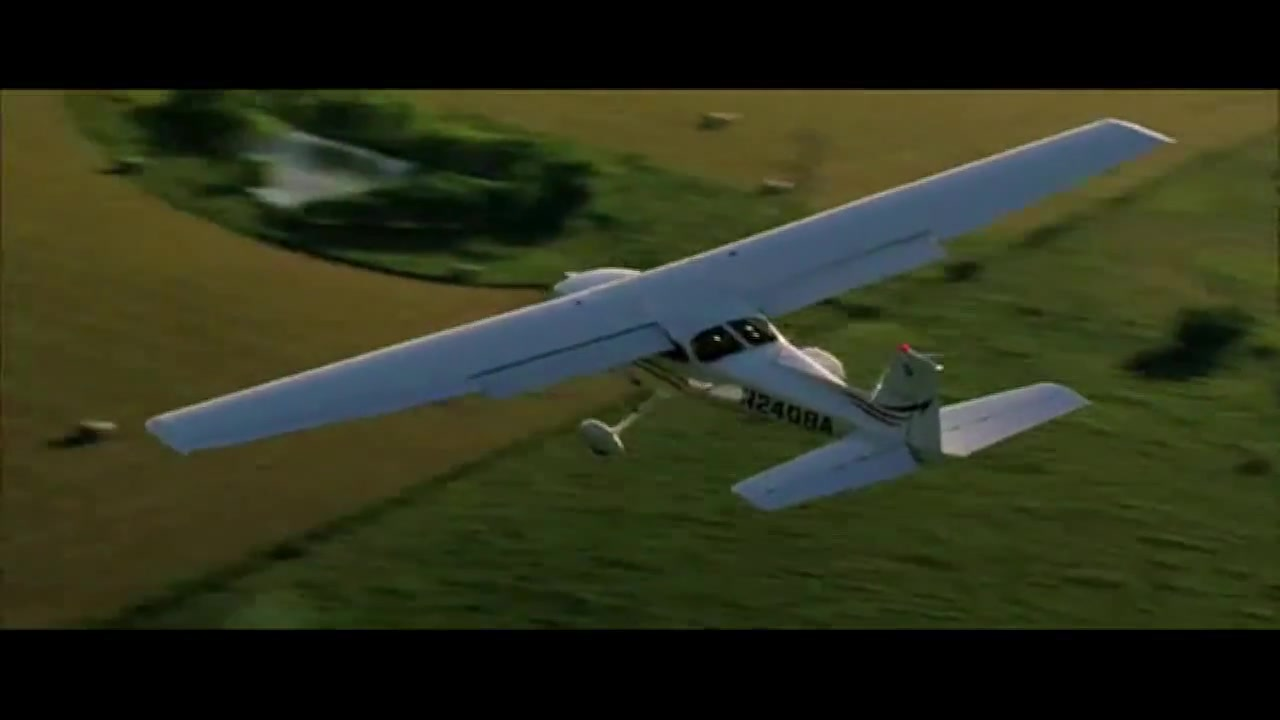aeroplane: (142, 107, 1190, 521)
